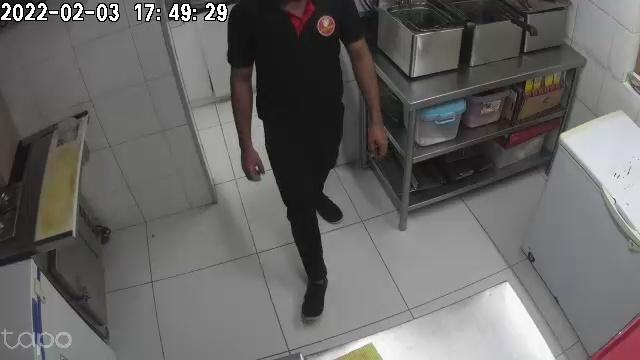no_gloves: (238, 135, 265, 184), (367, 112, 387, 159)
